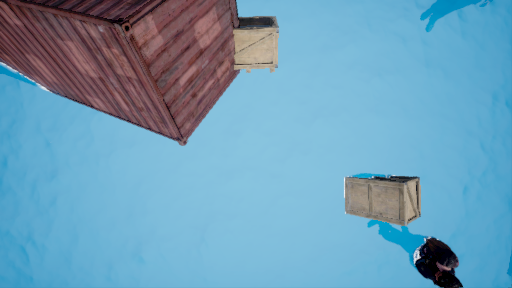person: (372, 217, 470, 288)
